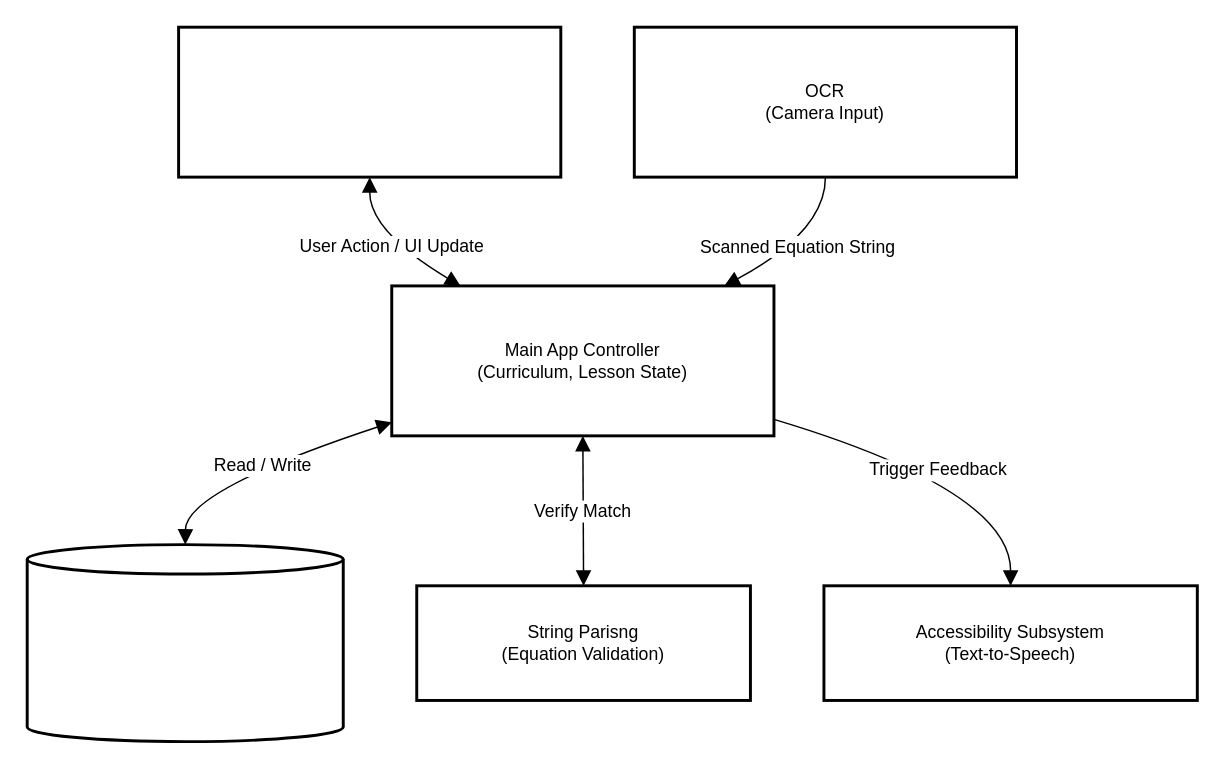
The diagram is 1223 pixels wide and 767 high, and some of its shapes have lost their labels. Here are the shapes that lost their labels. From the top down, the centre of each, then its label:
pixel 369 101: User Interface
pixel 184 642: Local Database (Core Data: Profiles, Lessons, Progress)
